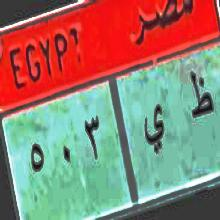0: (60, 130, 74, 174)
3: (83, 112, 105, 168)
5: (26, 136, 51, 184)
Thaa: (189, 62, 215, 135)
yaa: (144, 97, 169, 160)
